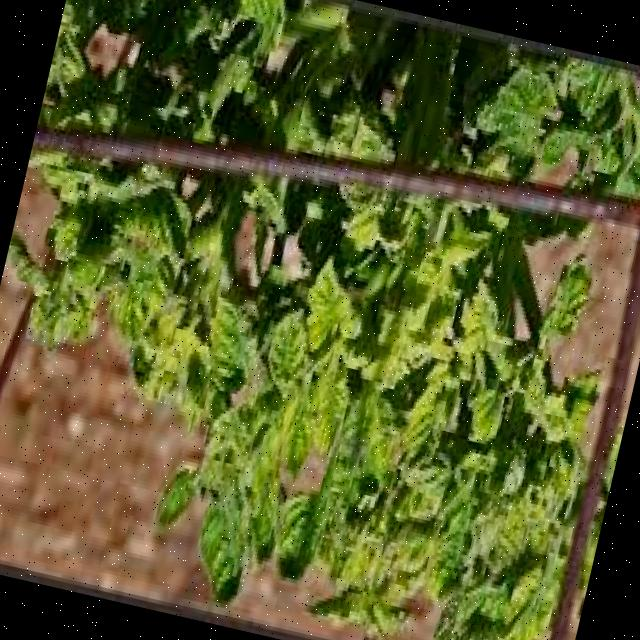leaf curl: (130, 219, 617, 640)
